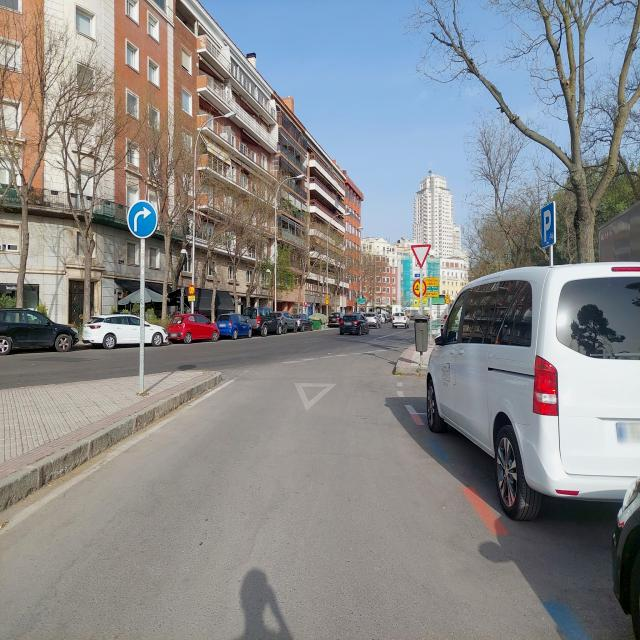car: (425, 261, 640, 523), (610, 423, 640, 640), (0, 305, 81, 355), (82, 313, 168, 349), (166, 312, 219, 343), (243, 305, 279, 336), (215, 312, 253, 339), (339, 312, 370, 336), (274, 311, 298, 334), (290, 312, 312, 331), (392, 311, 409, 329), (327, 312, 344, 328), (364, 312, 379, 328), (384, 312, 393, 322)
